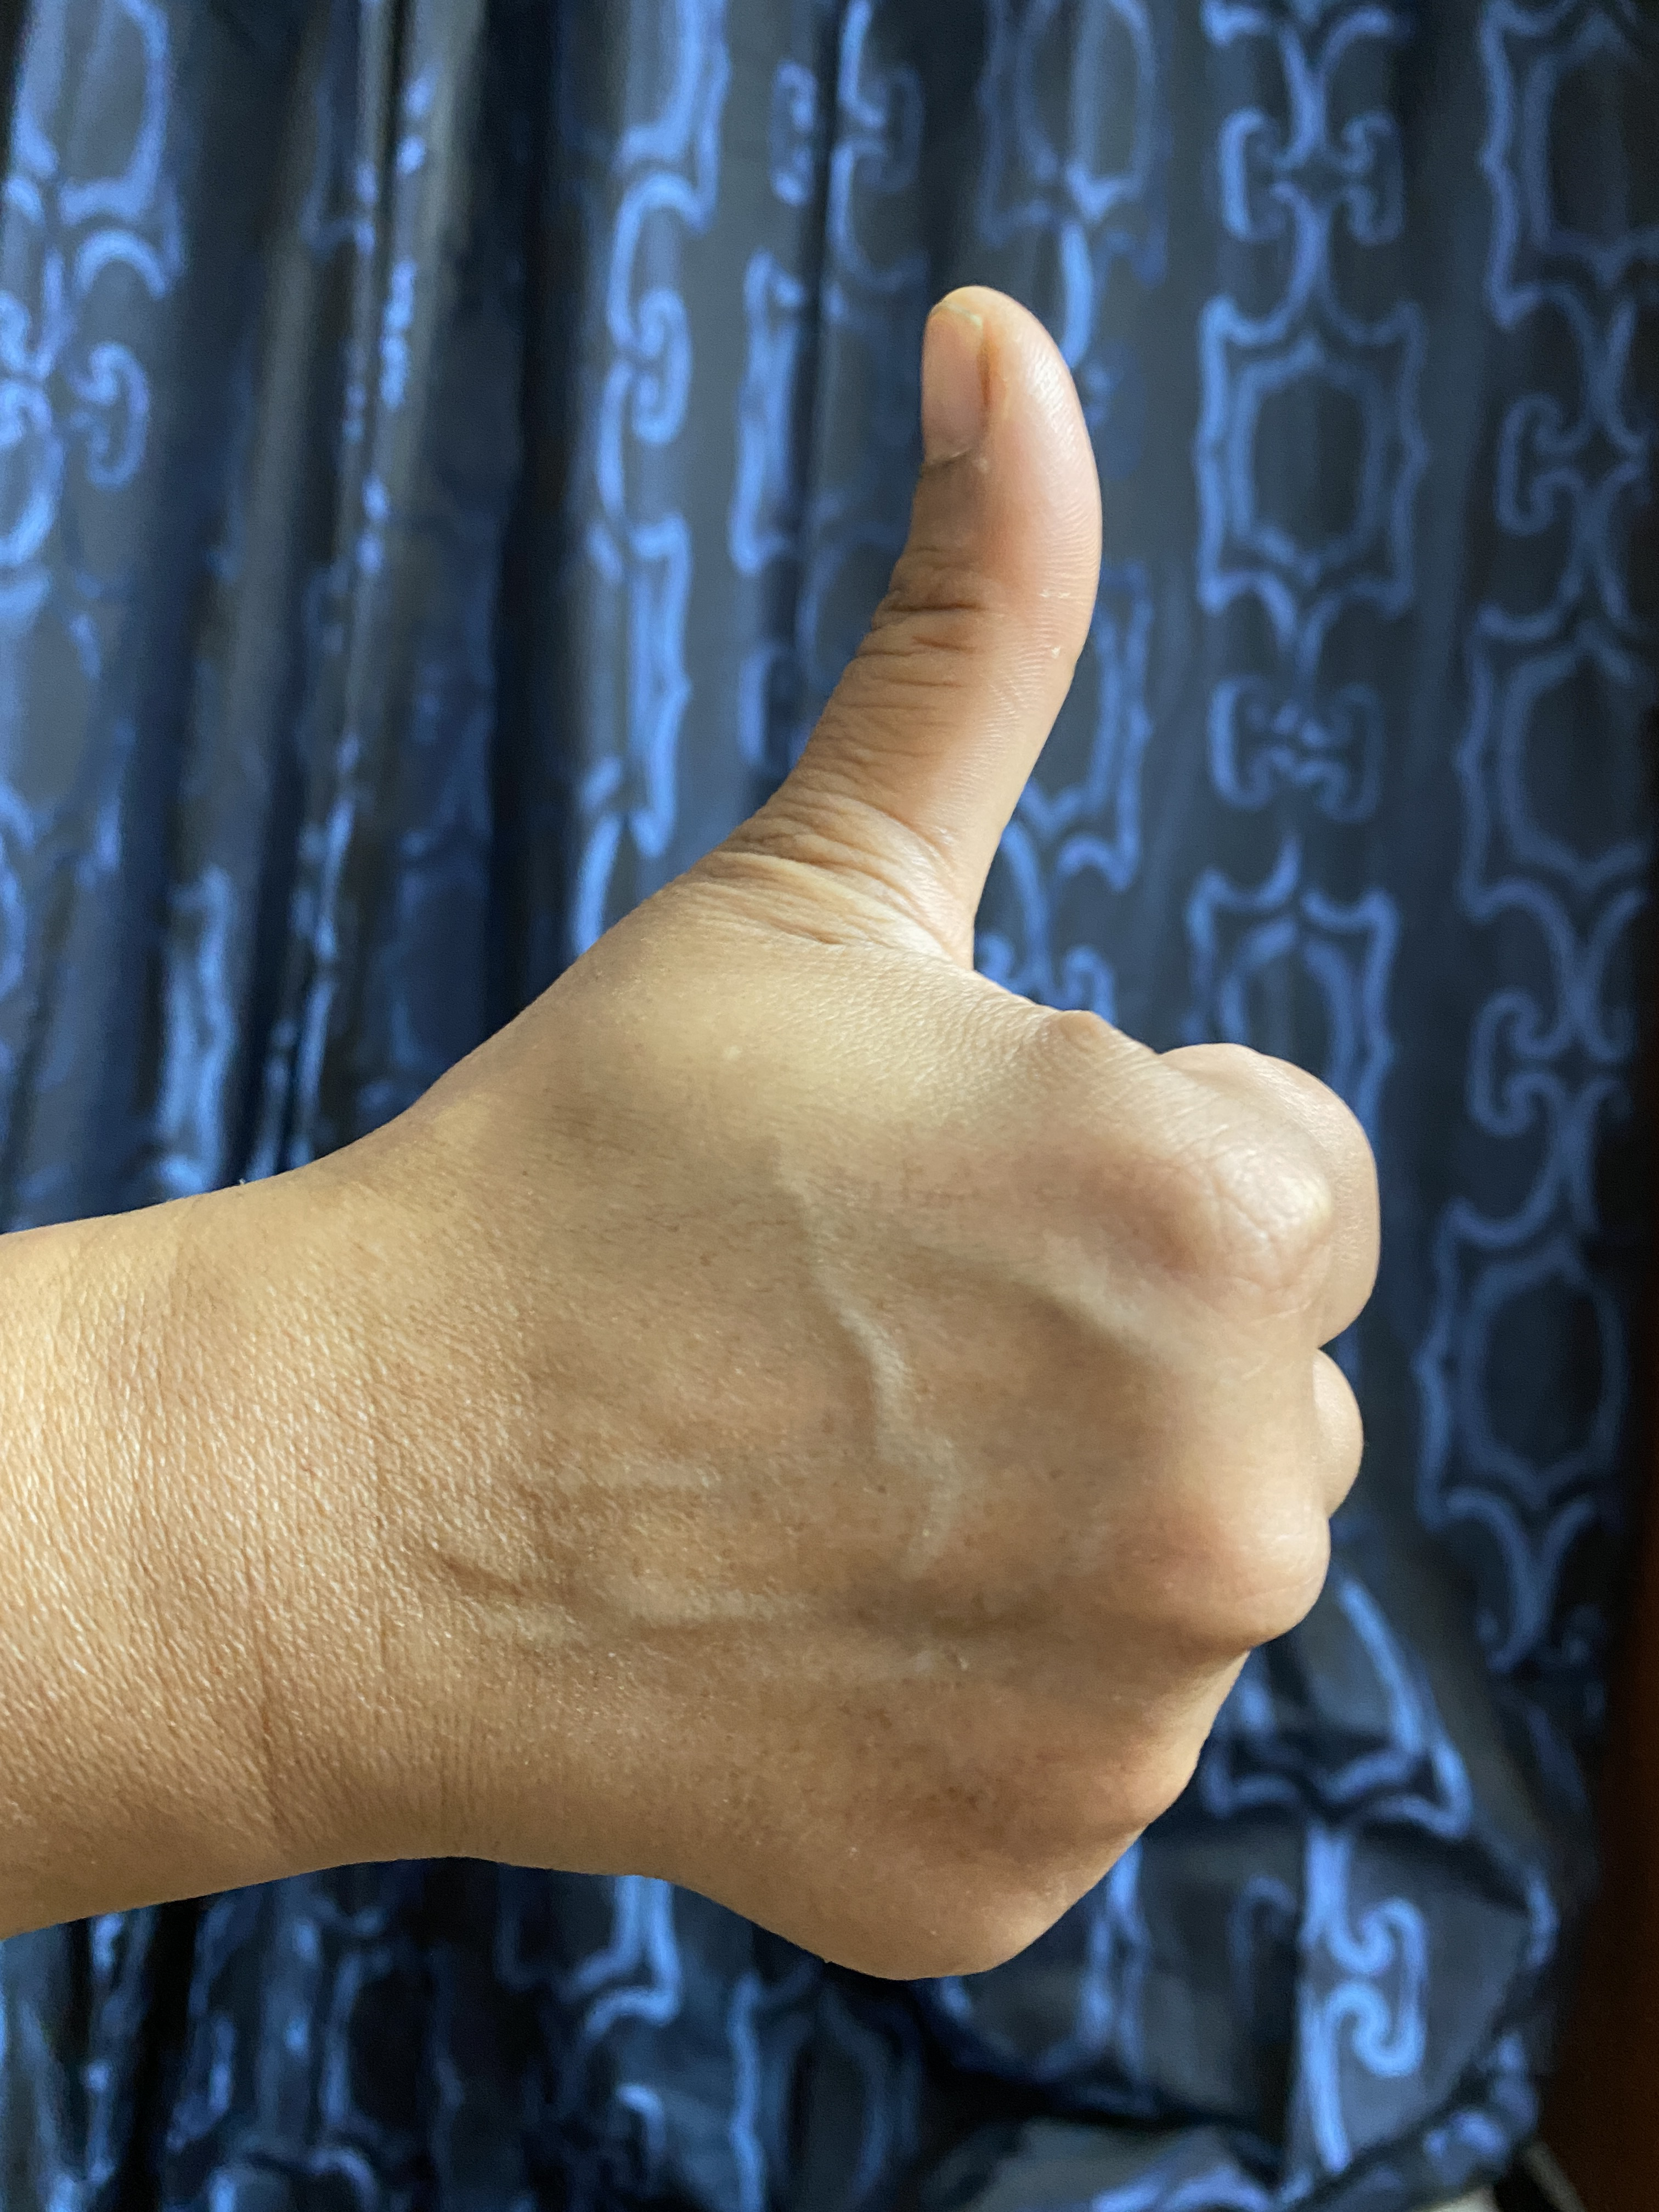up: (73, 185, 1605, 2050)
